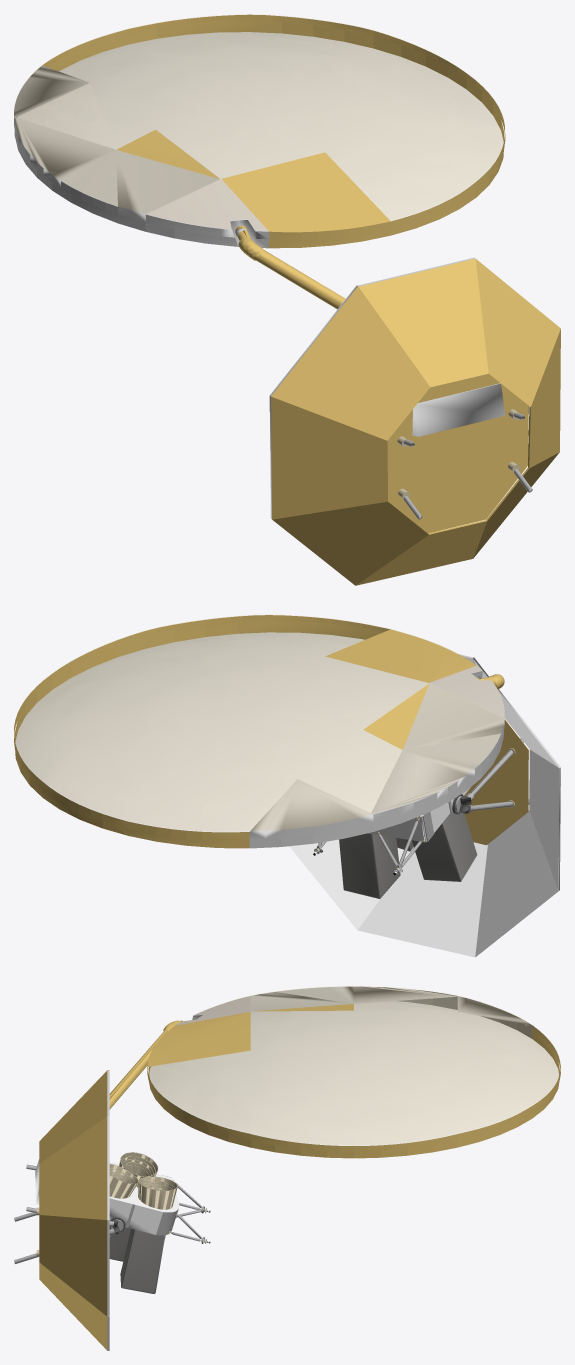
Rendered from SatTail.fbx.
The picture shows the model from 3 angles, top to bottom: view 1: azimuth 30°, elevation 25°; view 2: azimuth 150°, elevation 25°; view 3: azimuth 270°, elevation 25°; orthographic projection. The views are drawn at different scales.
Visible parts, largest first — view 1: Layer_0.001; view 2: Layer_0.001; view 3: Layer_0.001.
Boxes of the visible parts, x1,y1,x2,y2 form: Layer_0.001: [14, 14, 560, 585]; Layer_0.001: [14, 615, 560, 957]; Layer_0.001: [14, 986, 560, 1350].
Size of the model in its own units: 554 by 454 by 802.
